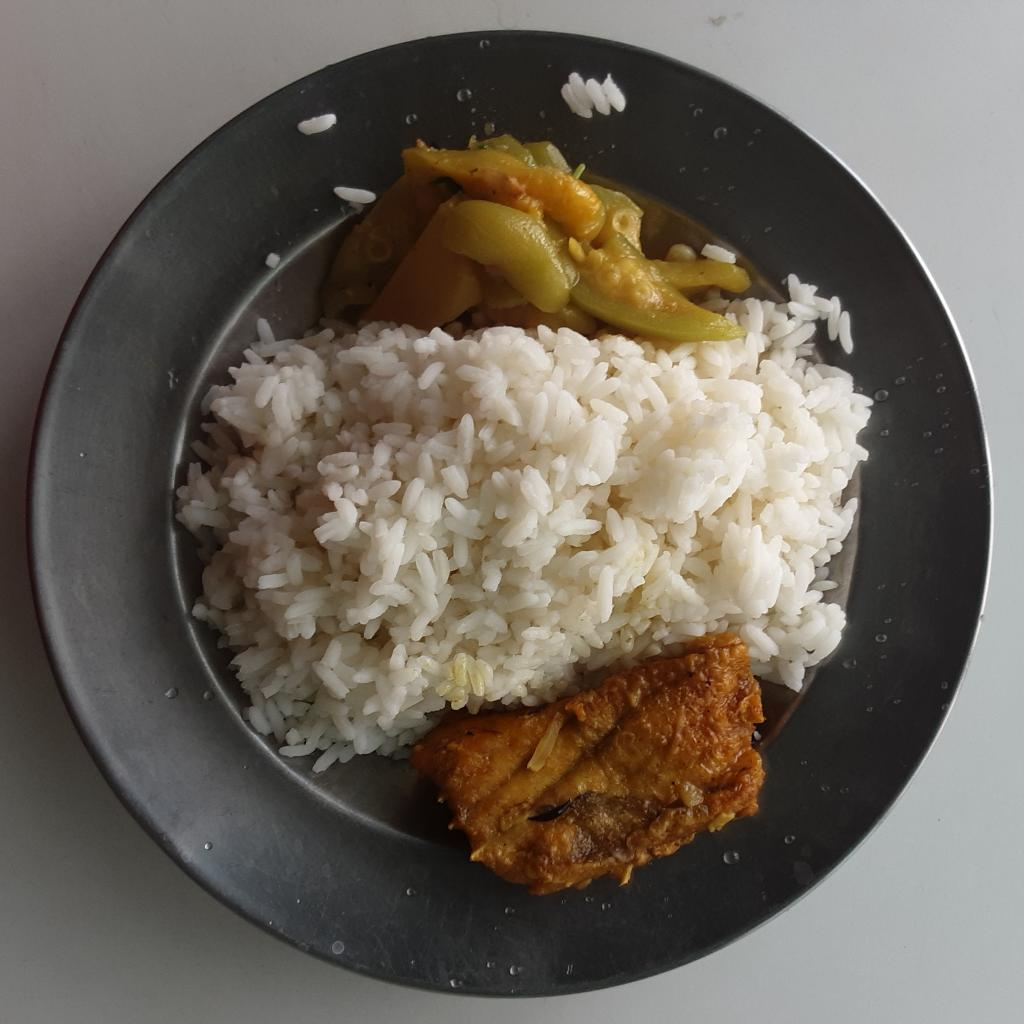fish: (635, 257, 895, 610)
potol: (135, 282, 345, 701)
rice: (275, 151, 777, 850)
